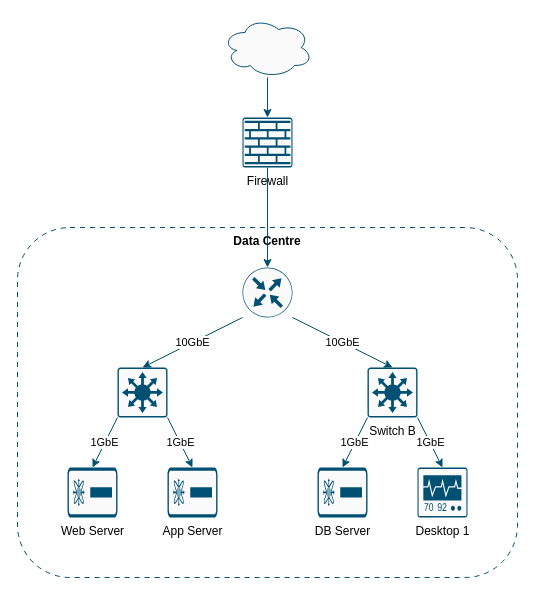
The diagram is 535 pixels wide and 595 high, and some of its shapes have lost their labels. Each missing label, with the box of its shape:
Core Router: (242, 266, 292, 318)
Internet: (222, 16, 312, 78)
Switch A: (116, 366, 168, 418)
